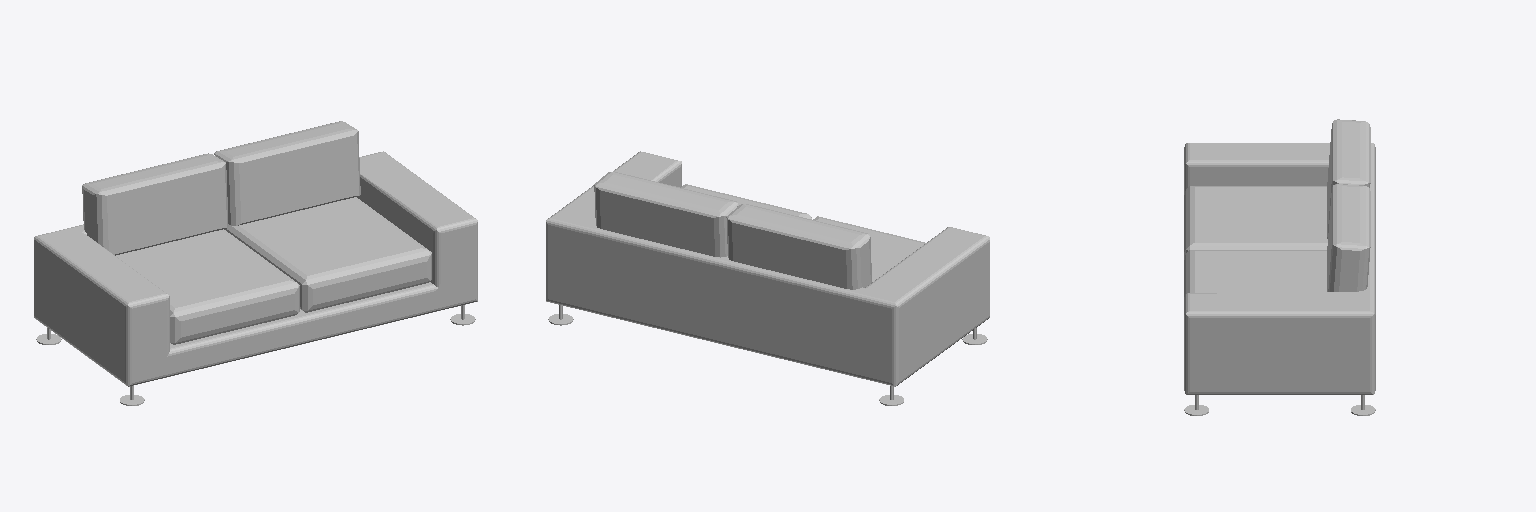
Rendered from couch modern03.obj.
3 views of the same model, side by side, from view 1: azimuth 30°, elevation 25°; view 2: azimuth 150°, elevation 25°; view 3: azimuth 270°, elevation 25° (orthographic).
Visible parts, largest first — view 1: Mesh4 CouchArm2 Couch_Modern1 Model, Mesh16 CushionBottomStretch2 CushionBottom_copy_001 Couch_Modern, Mesh7 CushionBottomStretch1 CushionBottom1 Couch_Modern1 Model, Mesh1 CouchArm1 Couch_Modern1 Model, Mesh17 CushionBackStretch2 CushionBack_copy_001 Couch_Modern1 Mo, Mesh8 CushionBackStretch1 CushionBack1 Couch_Modern1 Model, Mesh3 CouchStretch1 Couch_Modern1 Model, Mesh14 CushionBottomEnd3 CushionBottom_copy_001 Couch_Modern1 Mo, Mesh10 CushionBackEnd2 CushionBack1 Couch_Modern1 Model, Mesh19 CushionBackEnd4 CushionBack_copy_001 Couch_Modern1 Model; view 2: Mesh3 CouchStretch1 Couch_Modern1 Model, Mesh4 CouchArm2 Couch_Modern1 Model, Mesh8 CushionBackStretch1 CushionBack1 Couch_Modern1 Model, Mesh17 CushionBackStretch2 CushionBack_copy_001 Couch_Modern1 Mo, Mesh1 CouchArm1 Couch_Modern1 Model, Mesh7 CushionBottomStretch1 CushionBottom1 Couch_Modern1 Model, Mesh10 CushionBackEnd2 CushionBack1 Couch_Modern1 Model, Mesh19 CushionBackEnd4 CushionBack_copy_001 Couch_Modern1 Model, Mesh16 CushionBottomStretch2 CushionBottom_copy_001 Couch_Modern; view 3: Mesh1 CouchArm1 Couch_Modern1 Model, Mesh7 CushionBottomStretch1 CushionBottom1 Couch_Modern1 Model, Mesh4 CouchArm2 Couch_Modern1 Model, Mesh16 CushionBottomStretch2 CushionBottom_copy_001 Couch_Modern, Mesh8 CushionBackStretch1 CushionBack1 Couch_Modern1 Model, Mesh17 CushionBackStretch2 CushionBack_copy_001 Couch_Modern1 Mo, Mesh18 CushionBackEnd3 CushionBack_copy_001 Couch_Modern1 Model, Mesh6 CushionBottomEnd2 CushionBottom1 Couch_Modern1 Model, Mesh3 CouchStretch1 Couch_Modern1 Model.
Part boxes in pixels (x1,y1,x2,y2): Mesh4 CouchArm2 Couch_Modern1 Model: (34, 226, 171, 386); Mesh16 CushionBottomStretch2 CushionBottom_copy_001 Couch_Modern: (239, 198, 426, 311); Mesh7 CushionBottomStretch1 CushionBottom1 Couch_Modern1 Model: (116, 230, 294, 343); Mesh1 CouchArm1 Couch_Modern1 Model: (357, 151, 477, 311); Mesh17 CushionBackStretch2 CushionBack_copy_001 Couch_Modern1 Mo: (223, 122, 355, 224); Mesh8 CushionBackStretch1 CushionBack1 Couch_Modern1 Model: (90, 155, 222, 255); Mesh3 CouchStretch1 Couch_Modern1 Model: (79, 224, 435, 376); Mesh14 CushionBottomEnd3 CushionBottom_copy_001 Couch_Modern1 Mo: (224, 224, 312, 312); Mesh10 CushionBackEnd2 CushionBack1 Couch_Modern1 Model: (82, 182, 108, 250); Mesh19 CushionBackEnd4 CushionBack_copy_001 Couch_Modern1 Model: (214, 150, 240, 225); Mesh3 CouchStretch1 Couch_Modern1 Model: (588, 224, 858, 376); Mesh4 CouchArm2 Couch_Modern1 Model: (852, 227, 989, 386); Mesh8 CushionBackStretch1 CushionBack1 Couch_Modern1 Model: (732, 205, 863, 288); Mesh17 CushionBackStretch2 CushionBack_copy_001 Couch_Modern1 Mo: (600, 173, 730, 256); Mesh1 CouchArm1 Couch_Modern1 Model: (546, 151, 681, 311); Mesh7 CushionBottomStretch1 CushionBottom1 Couch_Modern1 Model: (816, 217, 925, 281); Mesh10 CushionBackEnd2 CushionBack1 Couch_Modern1 Model: (846, 233, 871, 289); Mesh19 CushionBackEnd4 CushionBack_copy_001 Couch_Modern1 Model: (714, 200, 737, 257); Mesh16 CushionBottomStretch2 CushionBottom_copy_001 Couch_Modern: (684, 185, 801, 215); Mesh1 CouchArm1 Couch_Modern1 Model: (1184, 292, 1375, 394); Mesh7 CushionBottomStretch1 CushionBottom1 Couch_Modern1 Model: (1184, 187, 1327, 250); Mesh4 CouchArm2 Couch_Modern1 Model: (1184, 143, 1375, 194); Mesh16 CushionBottomStretch2 CushionBottom_copy_001 Couch_Modern: (1184, 251, 1326, 296); Mesh8 CushionBackStretch1 CushionBack1 Couch_Modern1 Model: (1327, 122, 1370, 236); Mesh17 CushionBackStretch2 CushionBack_copy_001 Couch_Modern1 Mo: (1327, 186, 1370, 291); Mesh18 CushionBackEnd3 CushionBack_copy_001 Couch_Modern1 Model: (1328, 242, 1370, 291); Mesh6 CushionBottomEnd2 CushionBottom1 Couch_Modern1 Model: (1184, 243, 1327, 259); Mesh3 CouchStretch1 Couch_Modern1 Model: (1359, 163, 1375, 295).
Bounding box in the file's own units: 2.03 × 0.8172 × 0.9548.